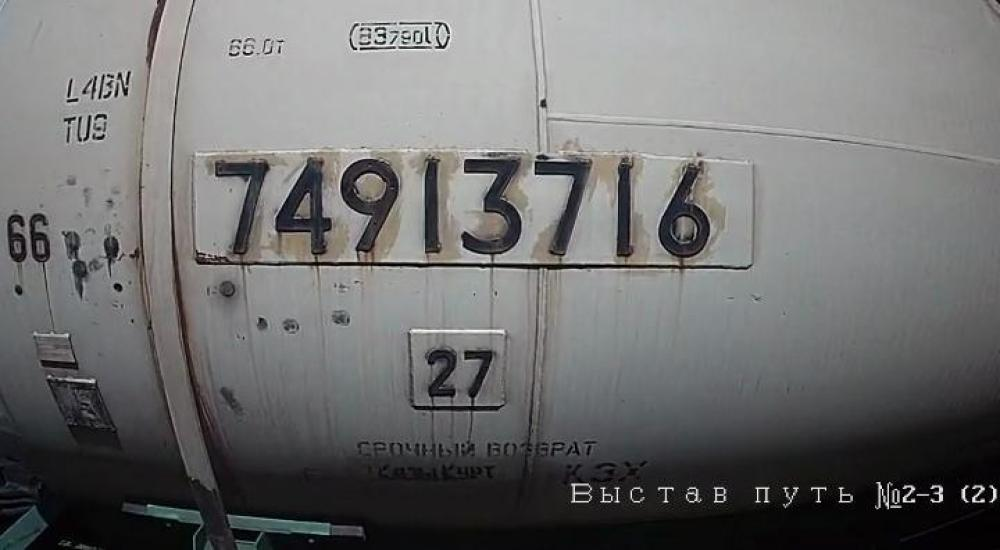Wagon-number: (206, 151, 717, 267)
